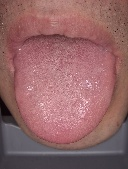tongue: (13, 52, 115, 146)
